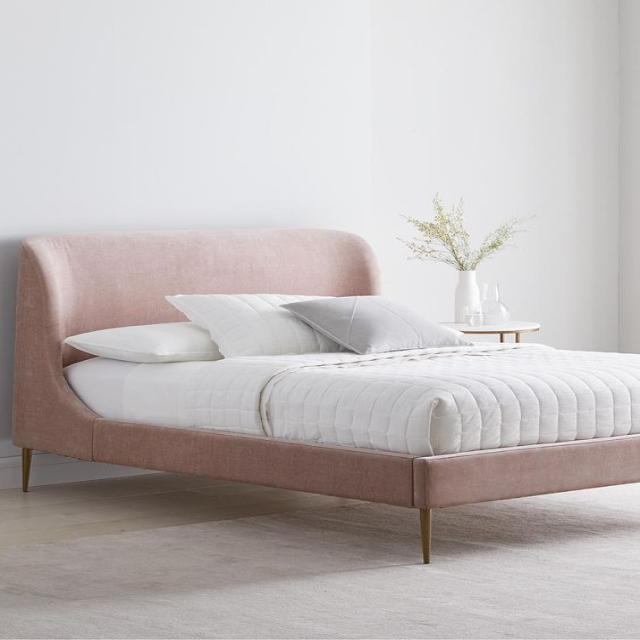obstacle: (10, 226, 639, 564), (437, 319, 540, 343)
